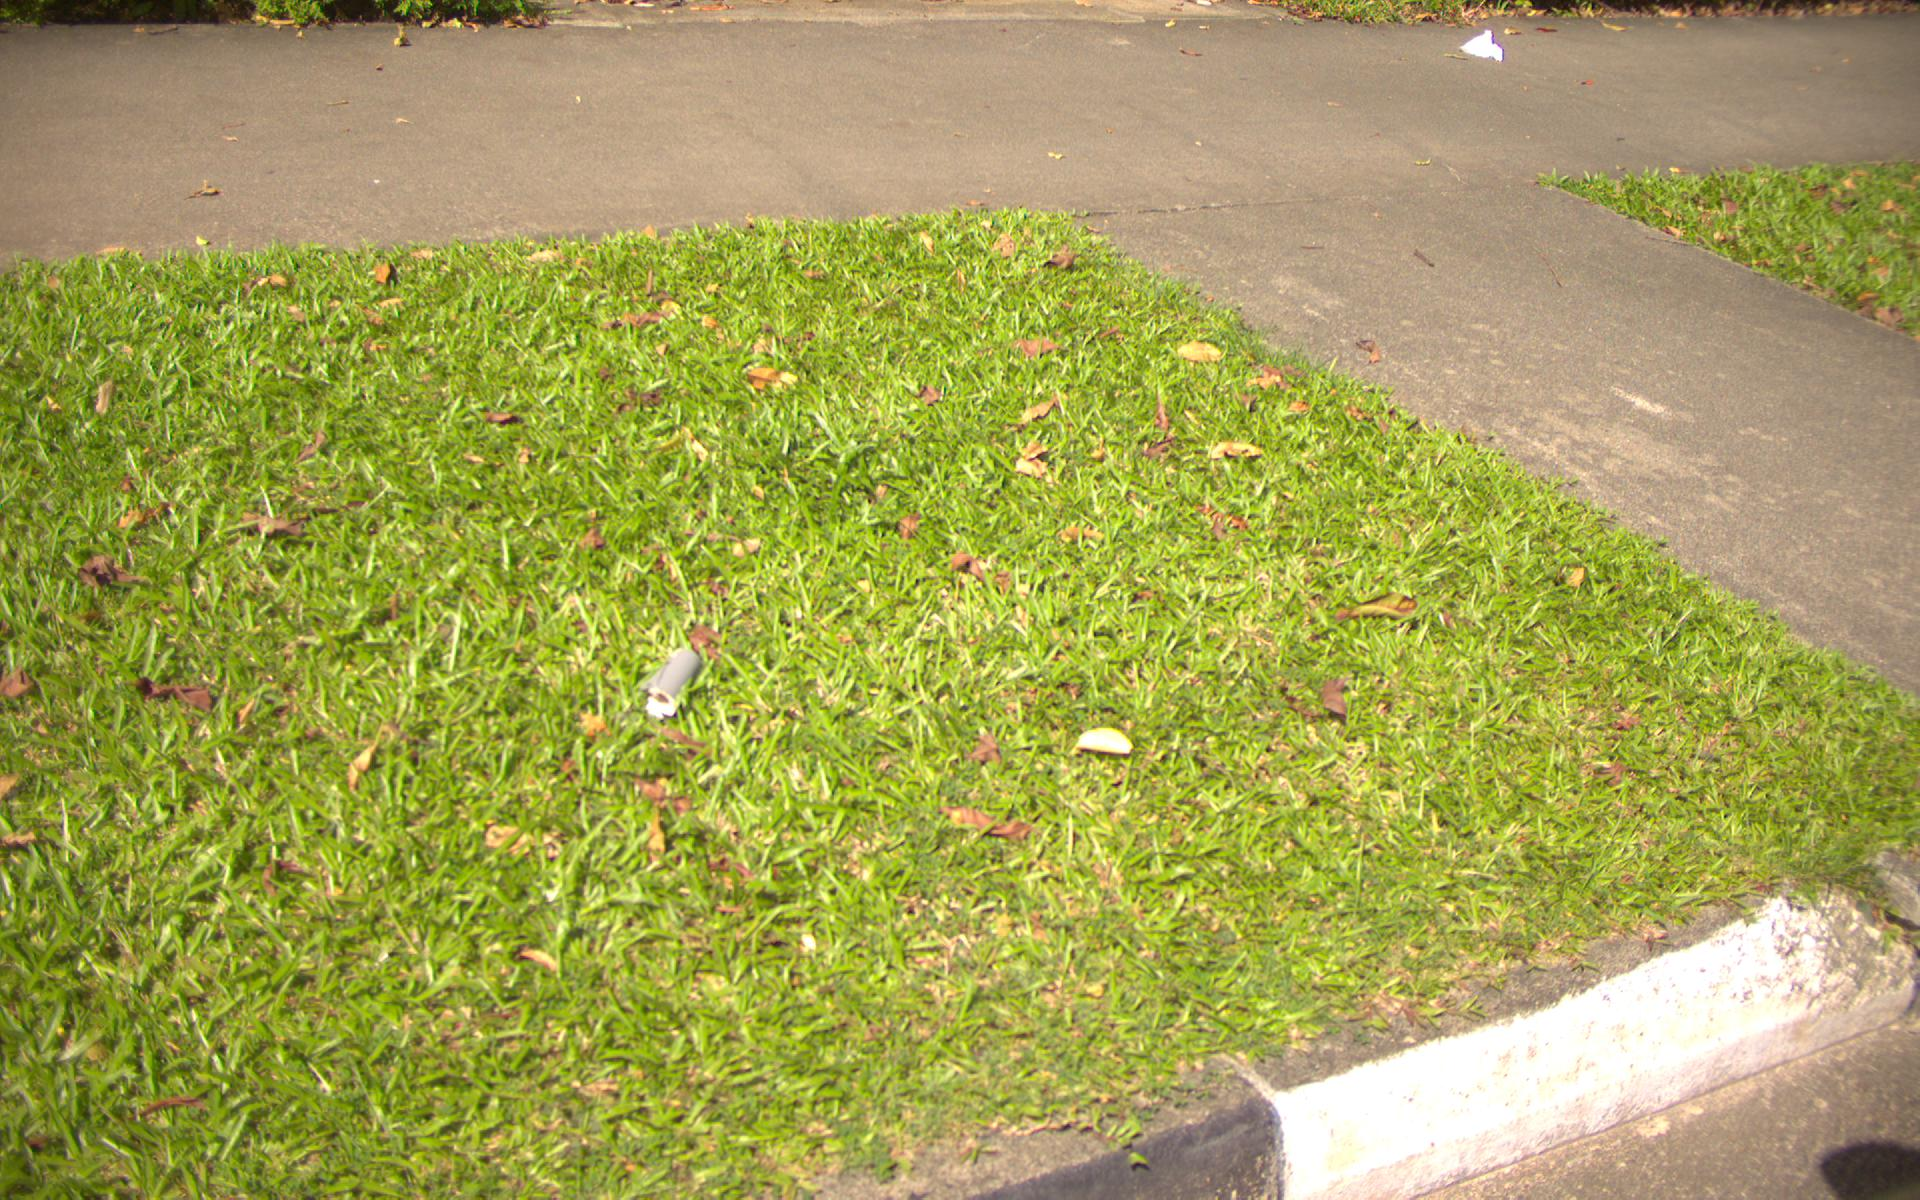pathway_low: (1, 21, 1920, 158)
road_turf_low: (10, 259, 1247, 1062)
